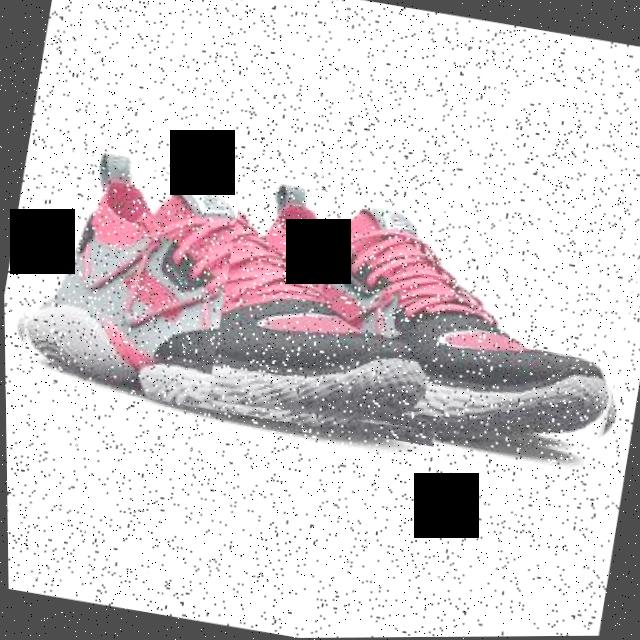shoe: (2, 141, 472, 449), (203, 175, 640, 471)
